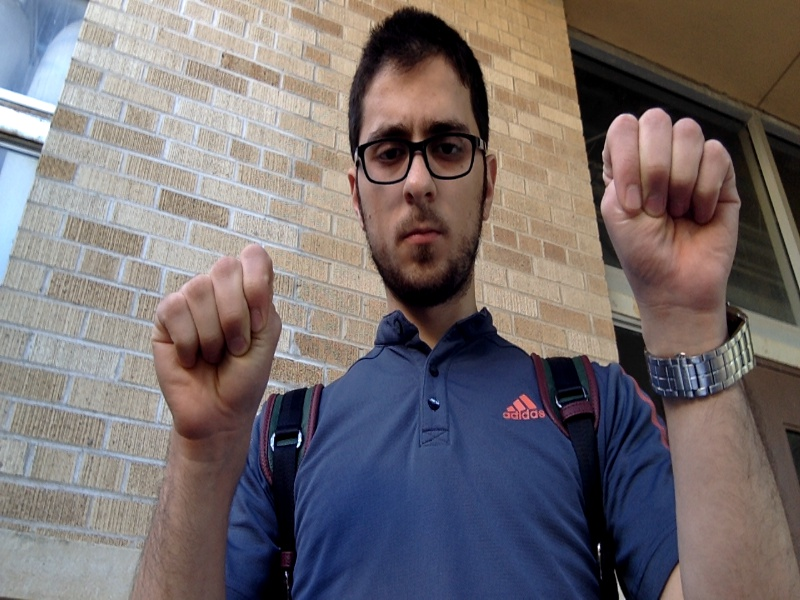0-hand: (601, 108, 739, 312), (153, 245, 283, 441)
